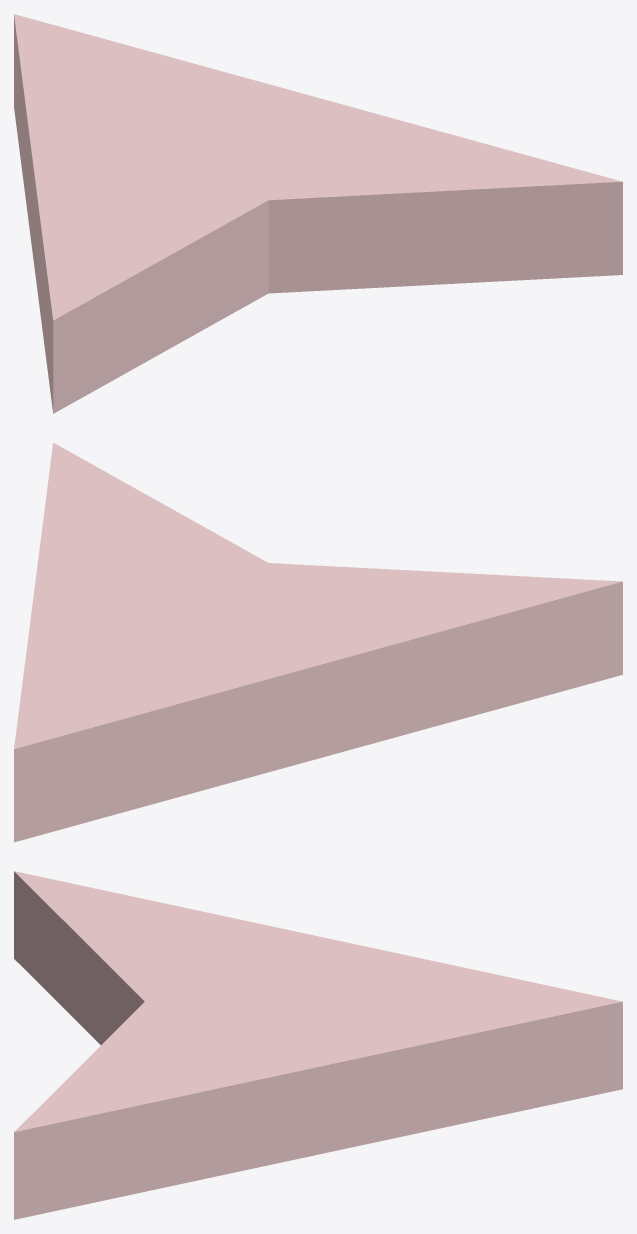
File: Test_one.glb
3 views of the same model, one above another, from view 1: azimuth 30°, elevation 25°; view 2: azimuth 150°, elevation 25°; view 3: azimuth 270°, elevation 25° (orthographic). The views are drawn at different scales.
Visible parts, largest first — view 1: Cube; view 2: Cube; view 3: Cube.
Boxes of the visible parts, x1,y1,x2,y2 form: Cube: (14,14,622,413); Cube: (14,442,622,842); Cube: (14,871,622,1219).
Size of the model in its own units: 1.92 by 0.3003 by 1.89.
Materials: 1 (1 with a texture image).
